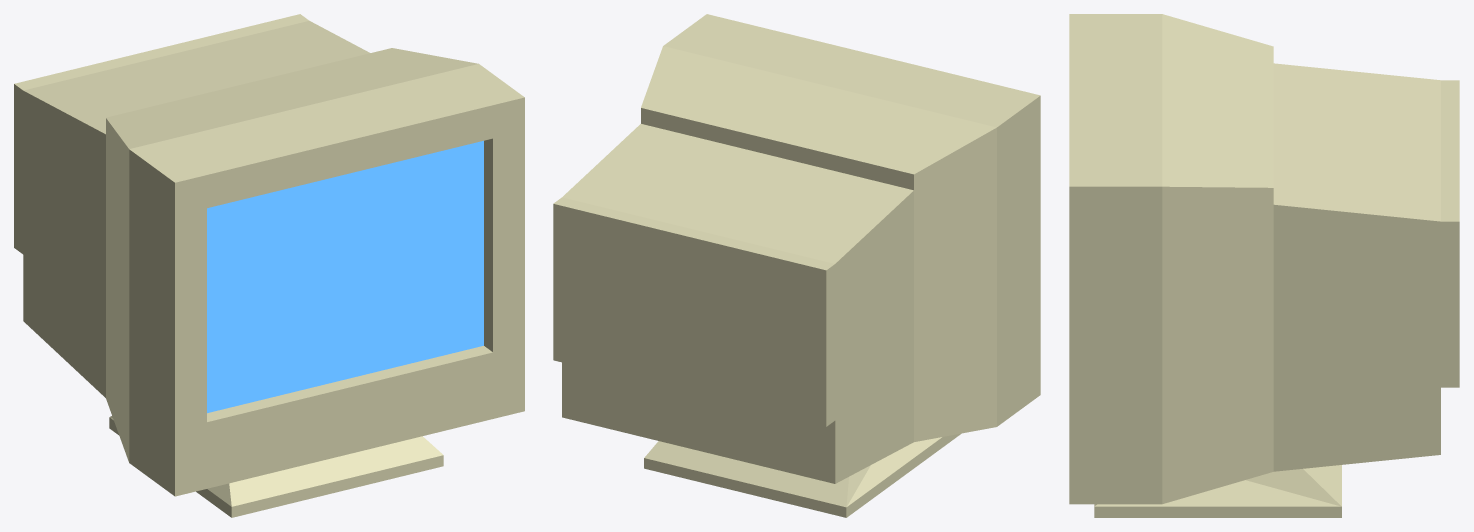
File: crt_monitor.fbx
3 renders of one model, left to right at view 1: azimuth 30°, elevation 25°; view 2: azimuth 150°, elevation 25°; view 3: azimuth 270°, elevation 25°, orthographic. The views are drawn at different scales.
Parts seen in each view (by area): view 1: CRT; view 2: CRT; view 3: CRT.
Part boxes in pixels (left/top/right/bottom): CRT: left=14, top=14, right=524, bottom=517; CRT: left=553, top=14, right=1040, bottom=517; CRT: left=1069, top=14, right=1459, bottom=517.
Size of the model in its own units: 154 by 152 by 147.
